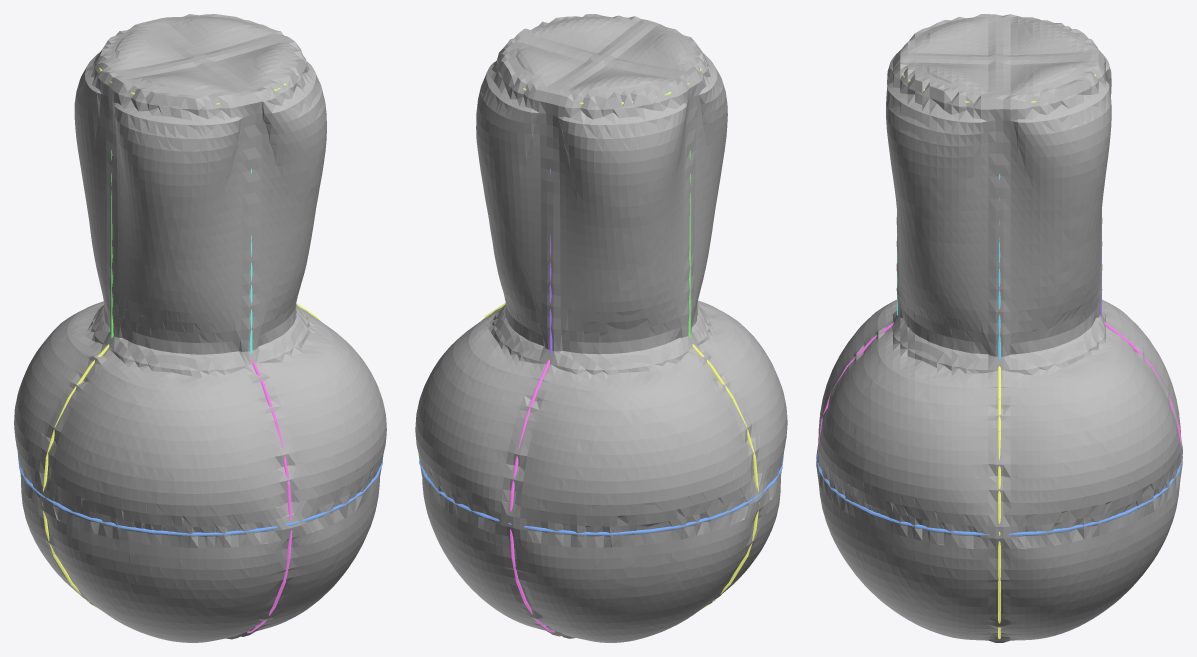
File: flowrep_spherecylinder.gltf
The picture shows the model from 3 angles, left to right: view 1: azimuth 30°, elevation 25°; view 2: azimuth 150°, elevation 25°; view 3: azimuth 270°, elevation 25°; orthographic projection.
Size of the model in its own units: 0.4563 by 0.7909 by 0.4564.
